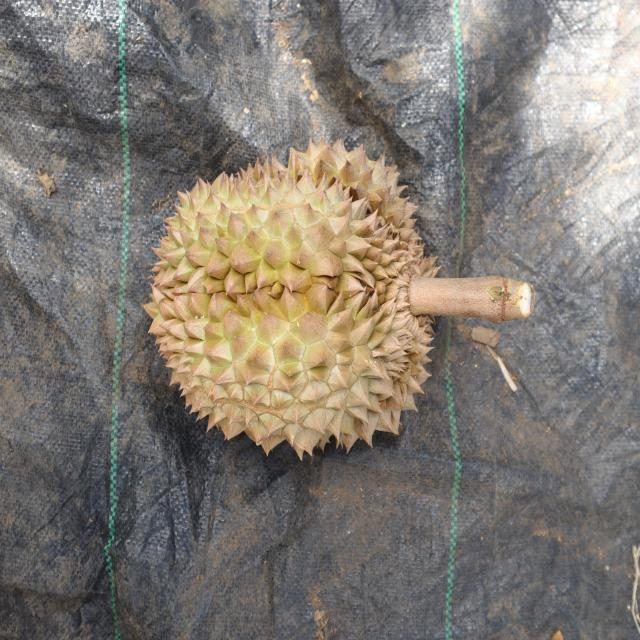mature: (141, 132, 444, 461)
